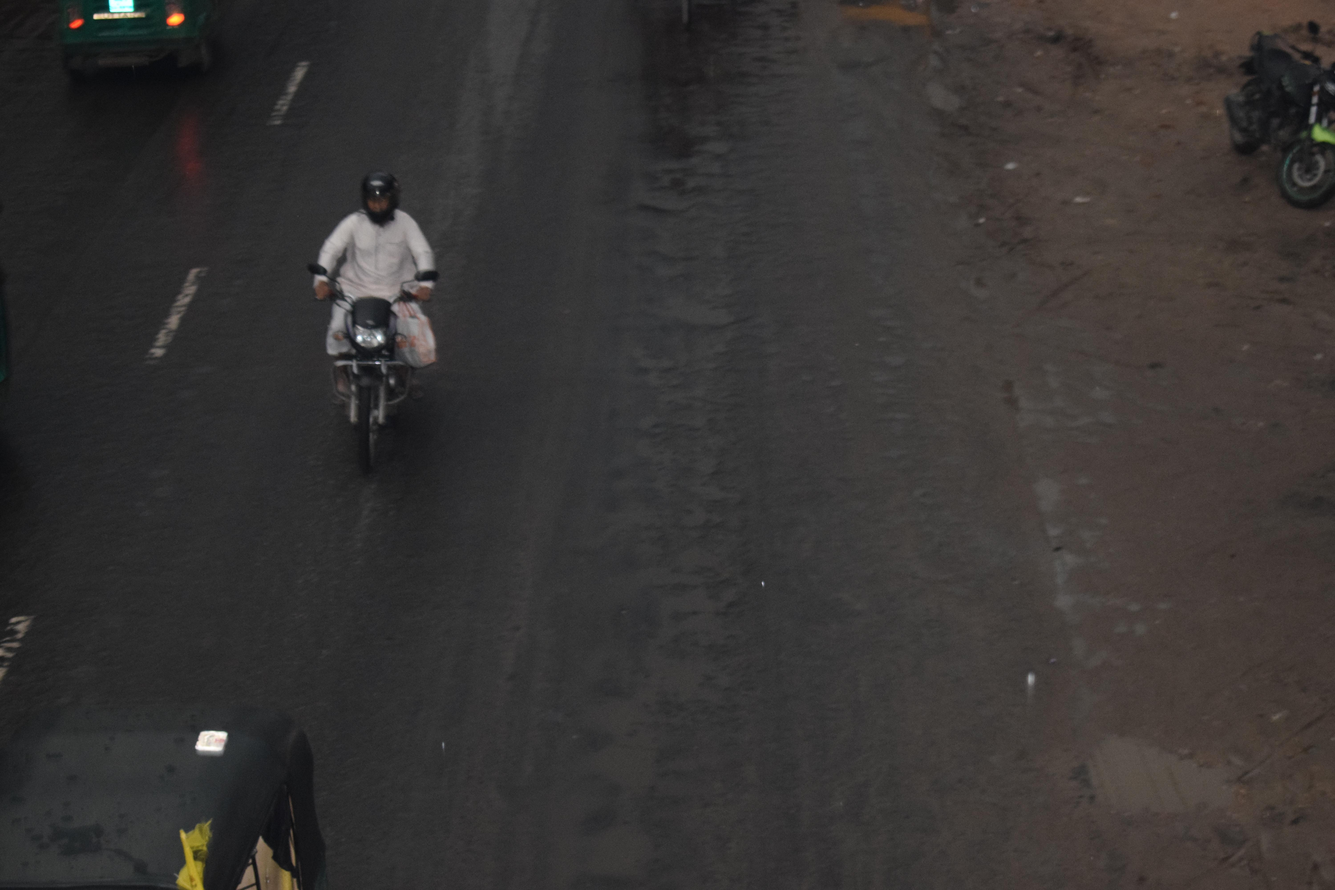Bike: (246, 135, 492, 517), (1185, 0, 1335, 222)
